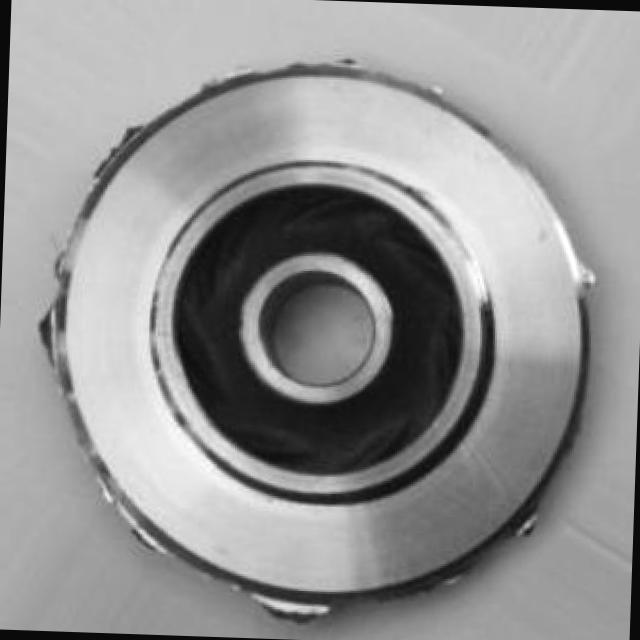Defect: (24, 300, 70, 353)
